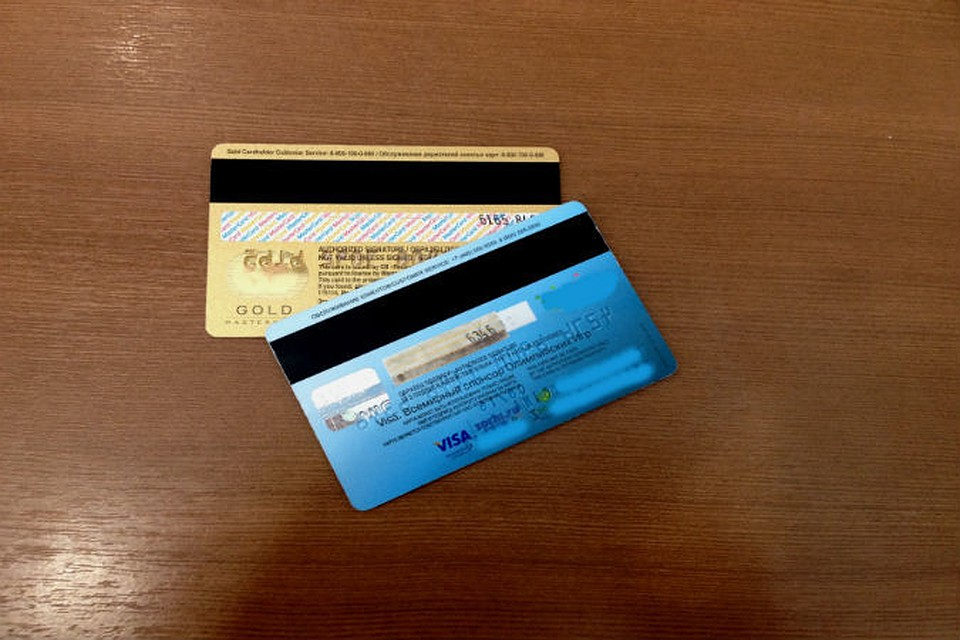card: (264, 199, 682, 514), (204, 144, 562, 338)
